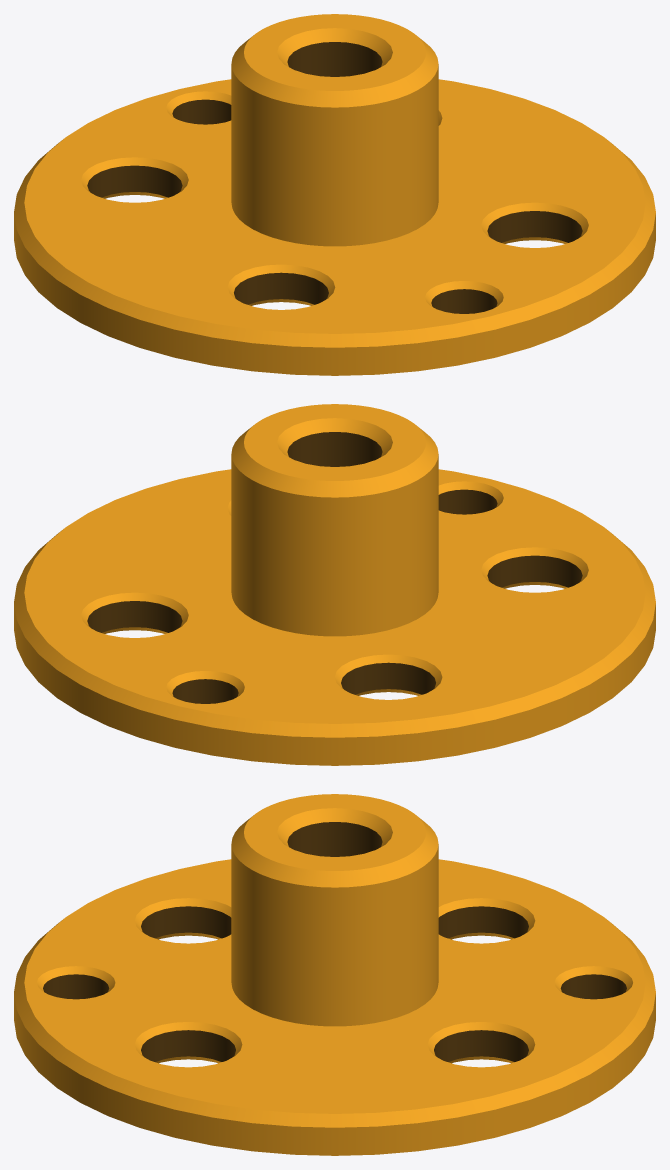
File: maza-pequena.glb
3 views of the same model, one above another, from view 1: azimuth 30°, elevation 25°; view 2: azimuth 150°, elevation 25°; view 3: azimuth 270°, elevation 25° (orthographic).
Visible parts, largest first — view 1: geometry_0, geometry_1; view 2: geometry_0, geometry_1; view 3: geometry_0, geometry_1.
Part boxes in pixels (x1=…): geometry_0: x1=14, y1=14, x2=655, y2=375; geometry_1: x1=87, y1=42, x2=582, y2=313; geometry_0: x1=14, y1=404, x2=655, y2=765; geometry_1: x1=87, y1=432, x2=582, y2=703; geometry_0: x1=14, y1=794, x2=655, y2=1155; geometry_1: x1=43, y1=822, x2=626, y2=1061.
Bounding box in the file's own units: 0.031 × 0.01 × 0.031.
